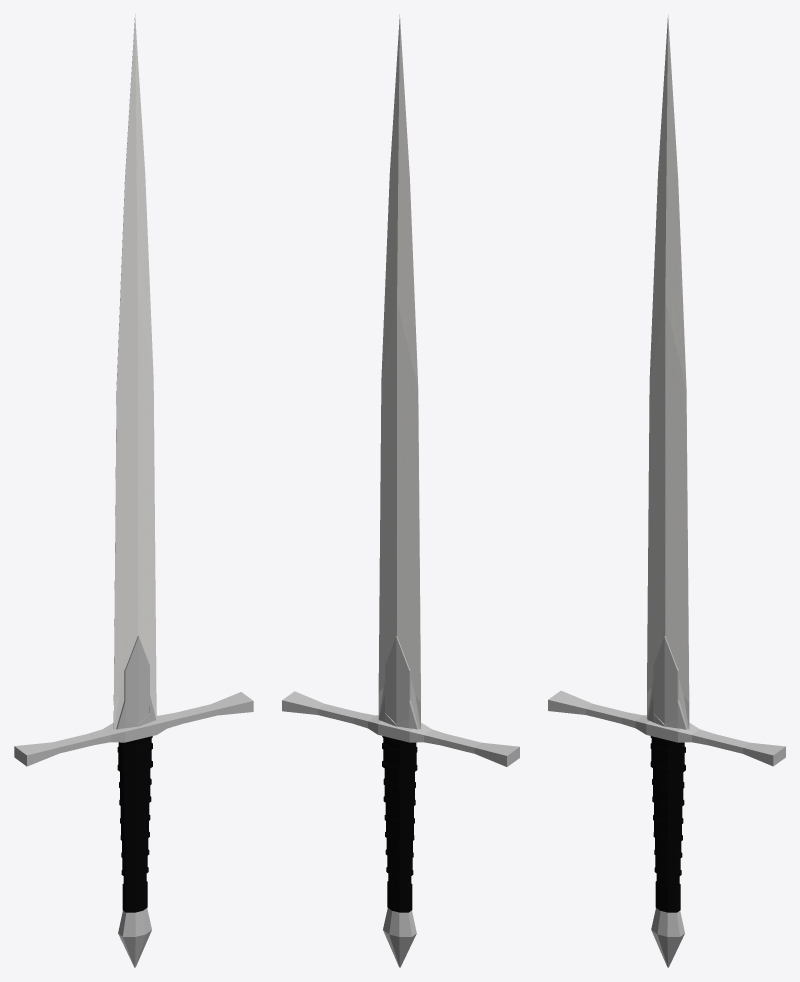
The model's file is UltraGreatSword.fbx.
The picture shows the model from 3 angles, left to right: view 1: azimuth 30°, elevation 25°; view 2: azimuth 150°, elevation 25°; view 3: azimuth 330°, elevation 25°; orthographic projection.
Visible parts, largest first — view 1: Cube, Cube.001, Cube.007, Cube.009, Cube.008; view 2: Cube, Cube.001, Cube.007, Cube.009, Cube.008; view 3: Cube, Cube.001, Cube.007, Cube.009, Cube.008.
Boxes of the visible parts, x1=… form: Cube: x1=113, y1=14, x2=156, y2=729; Cube.001: x1=14, y1=636, x2=253, y2=766; Cube.007: x1=118, y1=738, x2=151, y2=886; Cube.009: x1=117, y1=736, x2=152, y2=912; Cube.008: x1=118, y1=908, x2=151, y2=967; Cube: x1=378, y1=14, x2=420, y2=729; Cube.001: x1=282, y1=636, x2=519, y2=766; Cube.007: x1=383, y1=738, x2=416, y2=886; Cube.009: x1=382, y1=736, x2=417, y2=912; Cube.008: x1=383, y1=908, x2=416, y2=967; Cube: x1=647, y1=14, x2=689, y2=729; Cube.001: x1=548, y1=636, x2=785, y2=766; Cube.007: x1=651, y1=738, x2=684, y2=886; Cube.009: x1=650, y1=736, x2=685, y2=912; Cube.008: x1=651, y1=908, x2=684, y2=967.
Bounding box in the file's own units: 393 × 1586 × 40.32.
